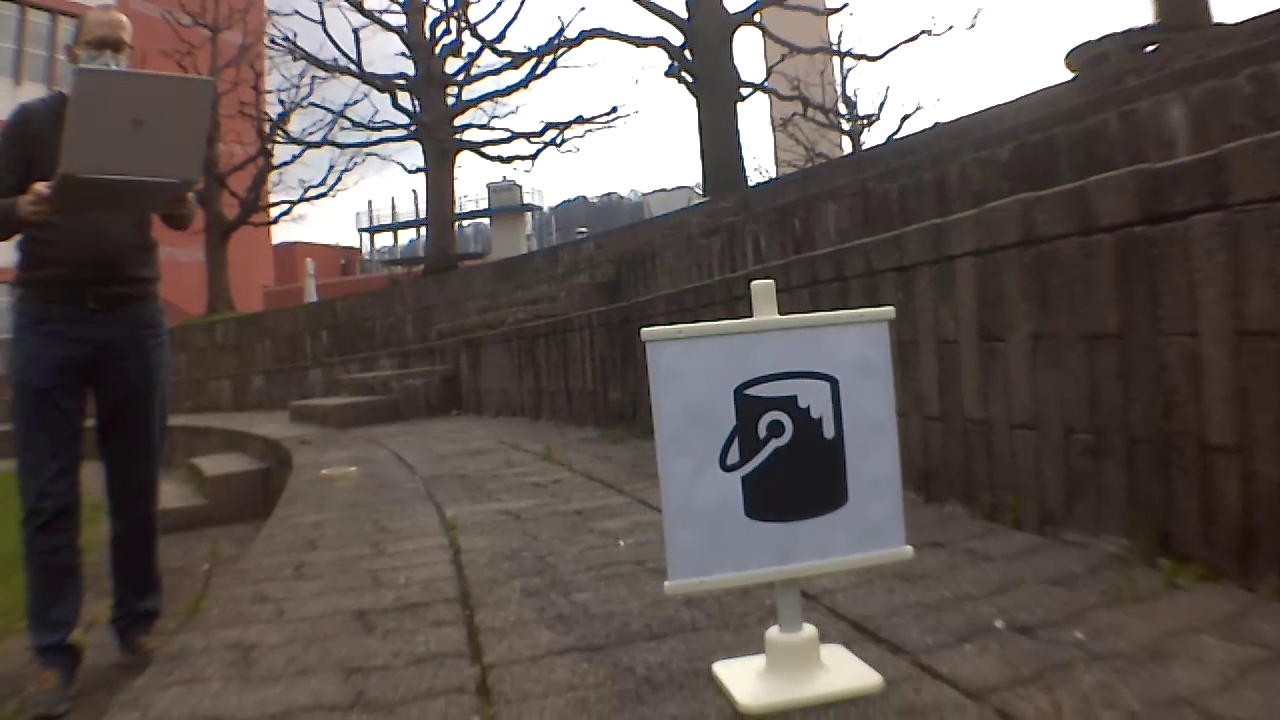bucket: (720, 370, 849, 528)
